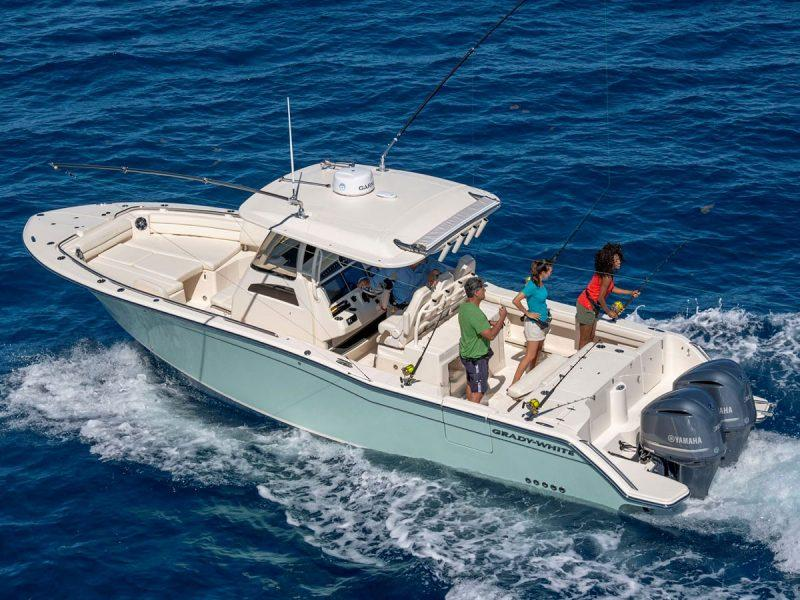fishing boat: (20, 94, 784, 528)
